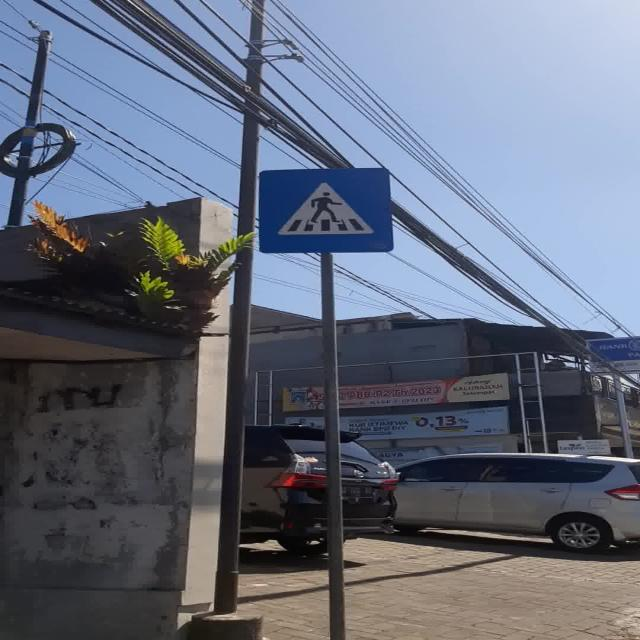Perintah Jalur Penyebrangan: (258, 167, 395, 253)
